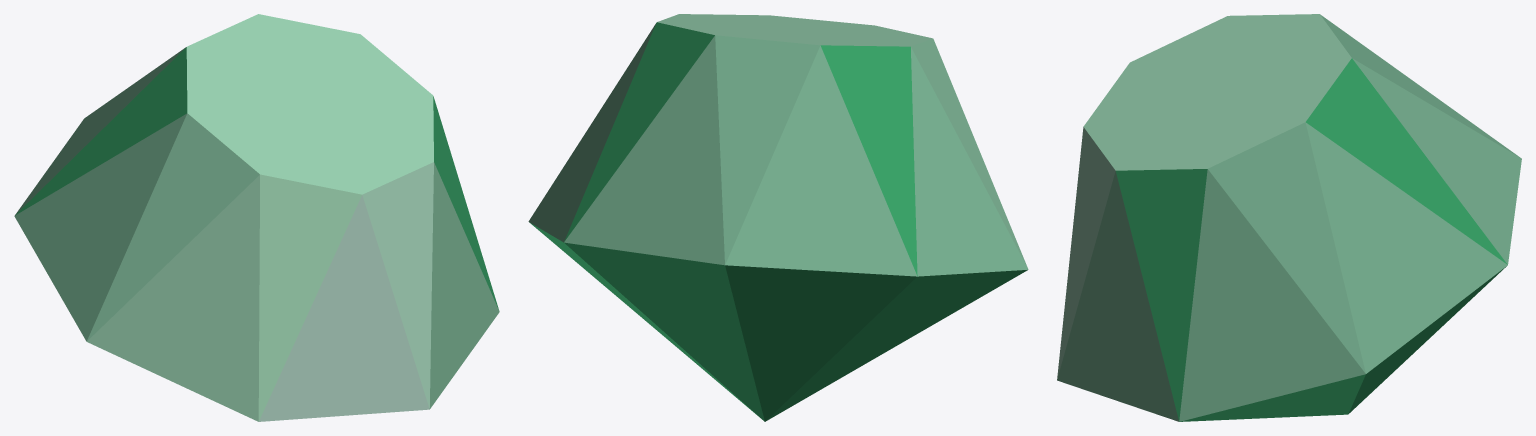
File: item_gem_emerald.glb
3 renders of one model, left to right at view 1: azimuth 30°, elevation 25°; view 2: azimuth 150°, elevation 25°; view 3: azimuth 270°, elevation 25°, orthographic. The views are drawn at different scales.
Visible parts, largest first — view 1: item_gem_emerald_gloss; view 2: item_gem_emerald_gloss; view 3: item_gem_emerald_gloss.
Boxes of the visible parts, bbox=[...] form: item_gem_emerald_gloss: bbox=[14, 14, 499, 421]; item_gem_emerald_gloss: bbox=[528, 14, 1028, 421]; item_gem_emerald_gloss: bbox=[1057, 14, 1521, 421].
Bounding box in the file's own units: 0.2484 × 0.2105 × 0.2333.
